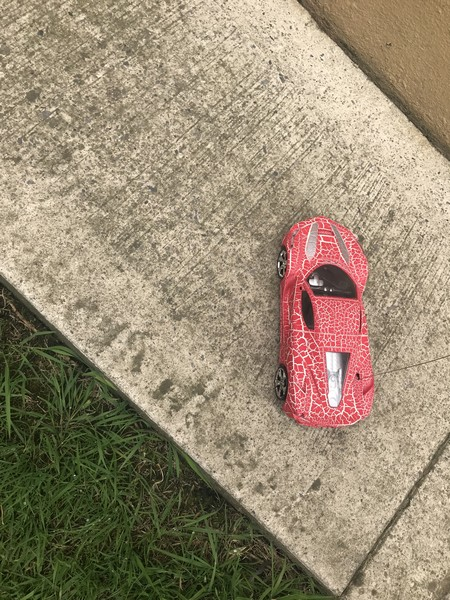RC: (272, 218, 376, 429)
